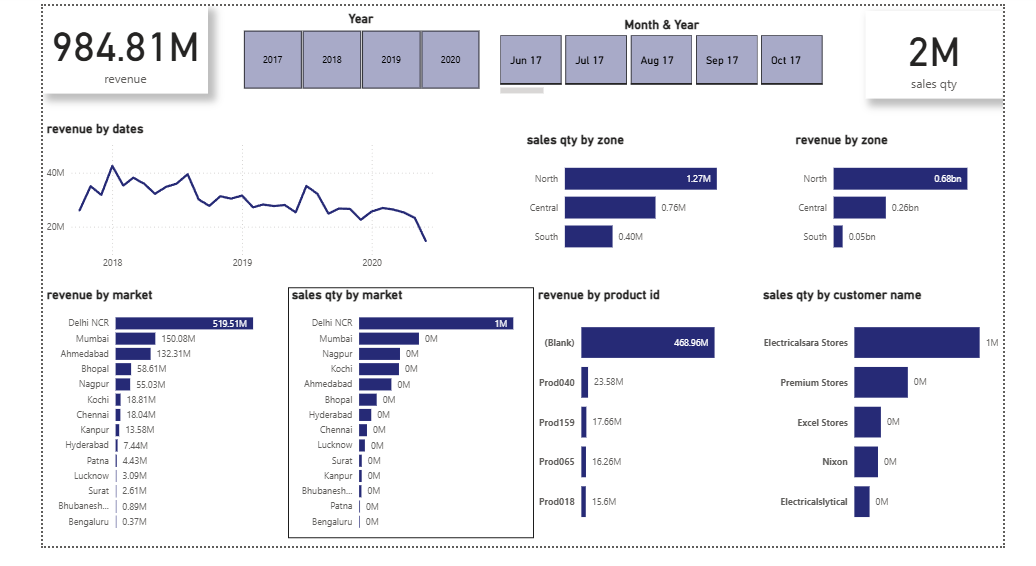

The page's visual inventory and layout, read from the dashboard file:
{"tool":"powerbi","page":{"name":"Page 1","canvas":[1280,720],"ordinal":0},"visuals":[{"type":"card","fields":{"Values":["baseMeasures.revenue"]},"box":[0,0,220,117],"z":0},{"type":"card","fields":{"Values":["baseMeasures.sales qty"]},"box":[1097.1,7.1,182.9,117.1],"z":1000},{"type":"barChart","title":"revenue by market","fields":{"Y":["baseMeasures.revenue"],"Category":["markets.markets_name"]},"box":[0,375.7,334.3,334.3],"z":2000},{"type":"barChart","title":"sales qty by market","fields":{"Y":["baseMeasures.sales qty"],"Category":["markets.markets_name"]},"box":[327.1,375.7,328.6,334.3],"z":3000},{"type":"slicer","title":"Year","fields":{"Values":["date.year"]},"box":[241.4,7.1,364.3,110],"z":4000},{"type":"advancedSlicerVisual","title":"Month & Year","fields":{"Values":["date.cy_date"]},"box":[605.7,15.7,440,108.6],"z":5000},{"type":"barChart","fields":{"Y":["baseMeasures.sales qty"],"Category":["customers.custmer_name"]},"box":[954.3,375.7,325.7,334.3],"z":6000},{"type":"barChart","fields":{"Y":["baseMeasures.revenue"],"Category":["products.product_code"]},"box":[655.7,375.7,298.6,334.3],"z":7000},{"type":"lineChart","title":"revenue by dates","fields":{"Y":["baseMeasures.revenue"],"Category":["date.cy_date"]},"box":[0,152.9,528.6,207.1],"z":8000},{"type":"clusteredBarChart","fields":{"Category":["markets.zone"],"Y":["baseMeasures.sales qty"]},"box":[640,168.6,290,175.7],"z":9000},{"type":"clusteredBarChart","fields":{"Category":["markets.zone"],"Y":["baseMeasures.revenue"]},"box":[998.6,168.6,281.4,175.7],"z":10000}]}

Visuals, with their boxes in screenshot pixels (x1, y1, x2, y2), scaled from the page's 1280x720 canvas onto the 1036x566 screenshot:
card - baseMeasures.revenue: 0, 0, 178, 92
card - baseMeasures.sales qty: 888, 6, 1035, 98
"revenue by market" barChart: 0, 295, 271, 558
"sales qty by market" barChart: 265, 295, 531, 558
"Year" slicer: 195, 6, 490, 92
"Month & Year" advancedSlicerVisual: 490, 12, 846, 98
barChart - baseMeasures.sales qty x customers.custmer_name: 772, 295, 1035, 558
barChart - baseMeasures.revenue x products.product_code: 531, 295, 772, 558
"revenue by dates" lineChart: 0, 120, 428, 283
clusteredBarChart - markets.zone x baseMeasures.sales qty: 518, 133, 753, 271
clusteredBarChart - markets.zone x baseMeasures.revenue: 808, 133, 1035, 271
